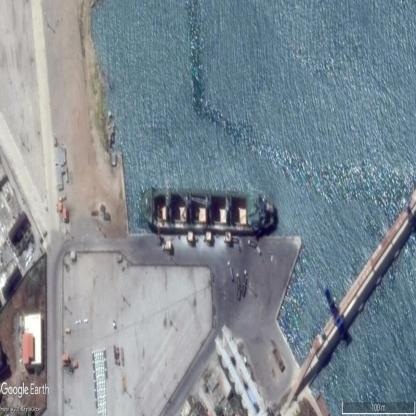ship: (142, 188, 276, 233)
